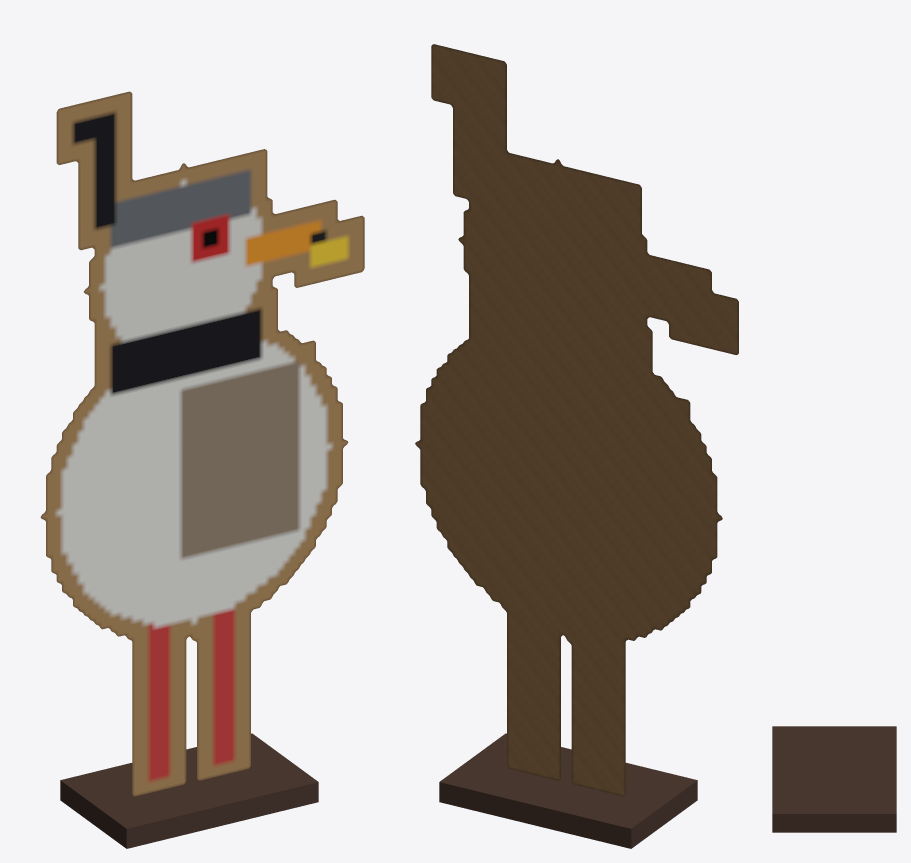
File: recorte_quico.glb
3 views of the same model, side by side, from view 1: azimuth 30°, elevation 25°; view 2: azimuth 150°, elevation 25°; view 3: azimuth 270°, elevation 25° (orthographic). The views are drawn at different scales.
Parts seen in each view (by area): view 1: _MeshInstance3D_678_2, _MeshInstance3D_680_0; view 2: _MeshInstance3D_679_1, _MeshInstance3D_680_0; view 3: _MeshInstance3D_680_0.
Boxes of the visible parts, x1,y1,x2,y2 form: _MeshInstance3D_678_2: [40, 91, 364, 796]; _MeshInstance3D_680_0: [60, 733, 318, 848]; _MeshInstance3D_679_1: [415, 44, 738, 796]; _MeshInstance3D_680_0: [439, 733, 697, 848]; _MeshInstance3D_680_0: [772, 726, 896, 832].
Bounding box in the file's own units: 0.9 × 1.85 × 0.3.
Materials: 3 (2 with a texture image).
